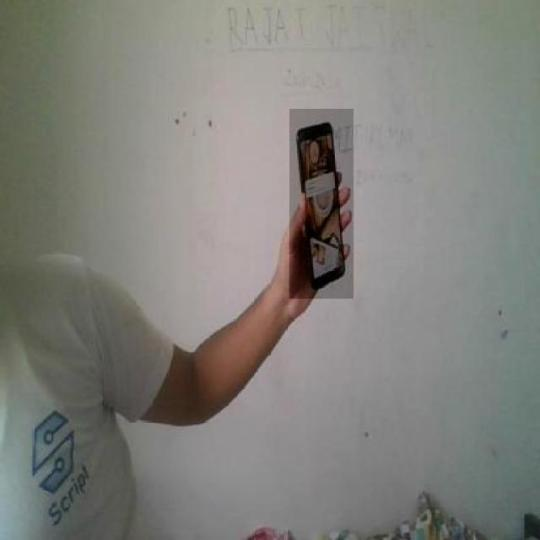phone: (293, 124, 354, 296)
